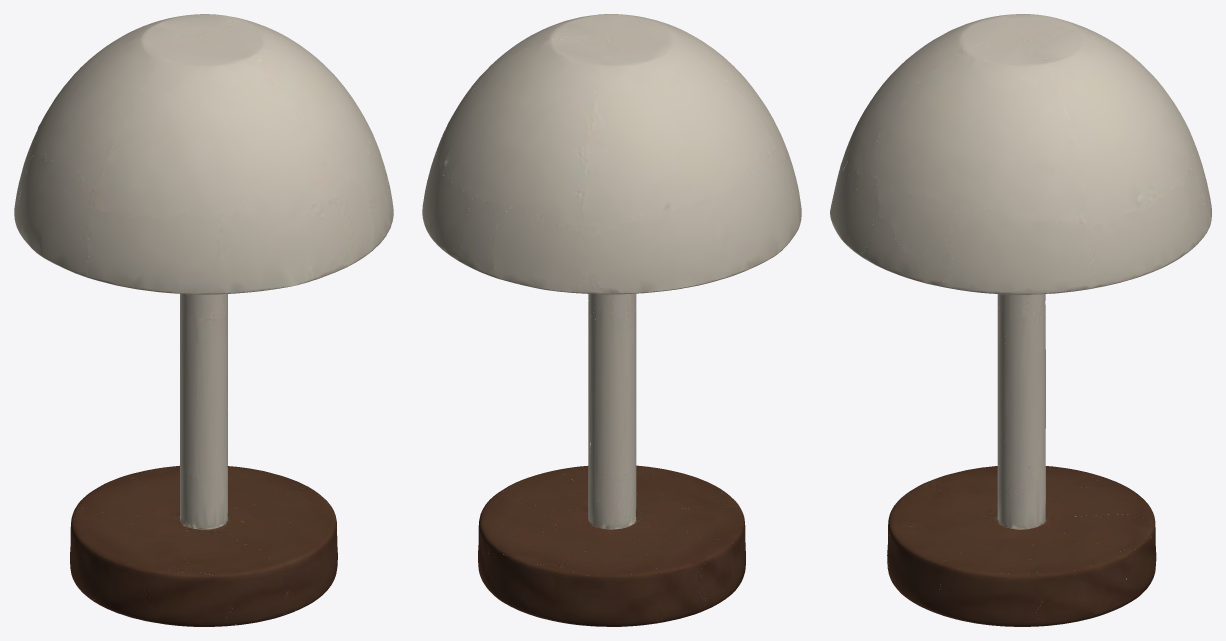
The model's file is cogumelo.glb.
The picture shows the model from 3 angles, left to right: view 1: azimuth 30°, elevation 25°; view 2: azimuth 150°, elevation 25°; view 3: azimuth 270°, elevation 25°; orthographic projection.
Parts seen in each view (by area): view 1: tripo_node_b110ebf2-e664-48bc-a23d-1cf74df1acab; view 2: tripo_node_b110ebf2-e664-48bc-a23d-1cf74df1acab; view 3: tripo_node_b110ebf2-e664-48bc-a23d-1cf74df1acab.
Boxes of the visible parts, <box> form: tripo_node_b110ebf2-e664-48bc-a23d-1cf74df1acab: <box>14,14,393,626</box>; tripo_node_b110ebf2-e664-48bc-a23d-1cf74df1acab: <box>422,14,801,626</box>; tripo_node_b110ebf2-e664-48bc-a23d-1cf74df1acab: <box>830,14,1211,626</box>.
Bounding box in the file's own units: 0.1232 × 0.19 × 0.1234.
Materials: 1 (1 with a texture image).
